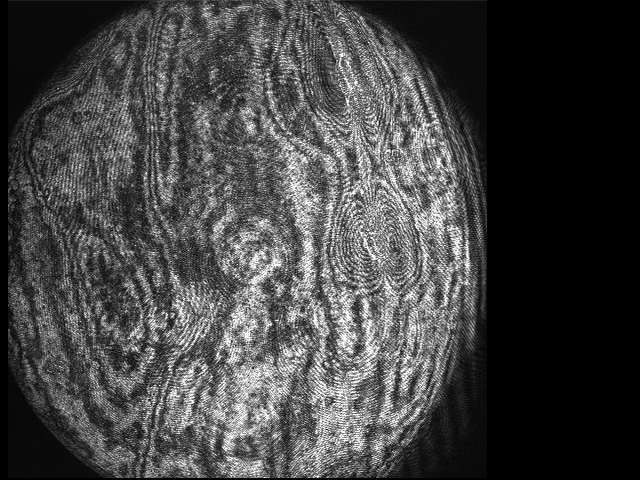plume: (333, 184, 422, 287)
